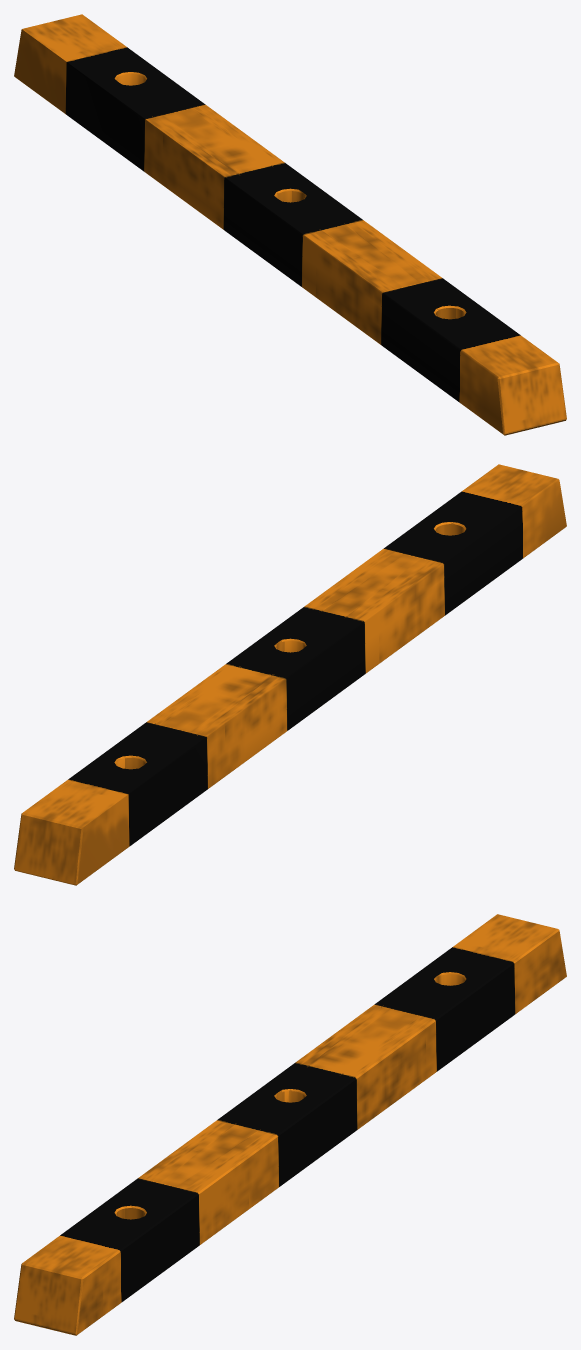
Rendered from Limiter1_1.FBX.
3 views of the same model, one above another, from view 1: azimuth 30°, elevation 25°; view 2: azimuth 150°, elevation 25°; view 3: azimuth 330°, elevation 25° (orthographic).
Parts seen in each view (by area): view 1: Limiter; view 2: Limiter; view 3: Limiter.
Boxes of the visible parts, box(x1,y1,x2,y2) form: Limiter: box(14, 14, 566, 435); Limiter: box(14, 464, 566, 885); Limiter: box(14, 914, 566, 1335).
Size of the model in its own units: 150 by 120 by 1999.
